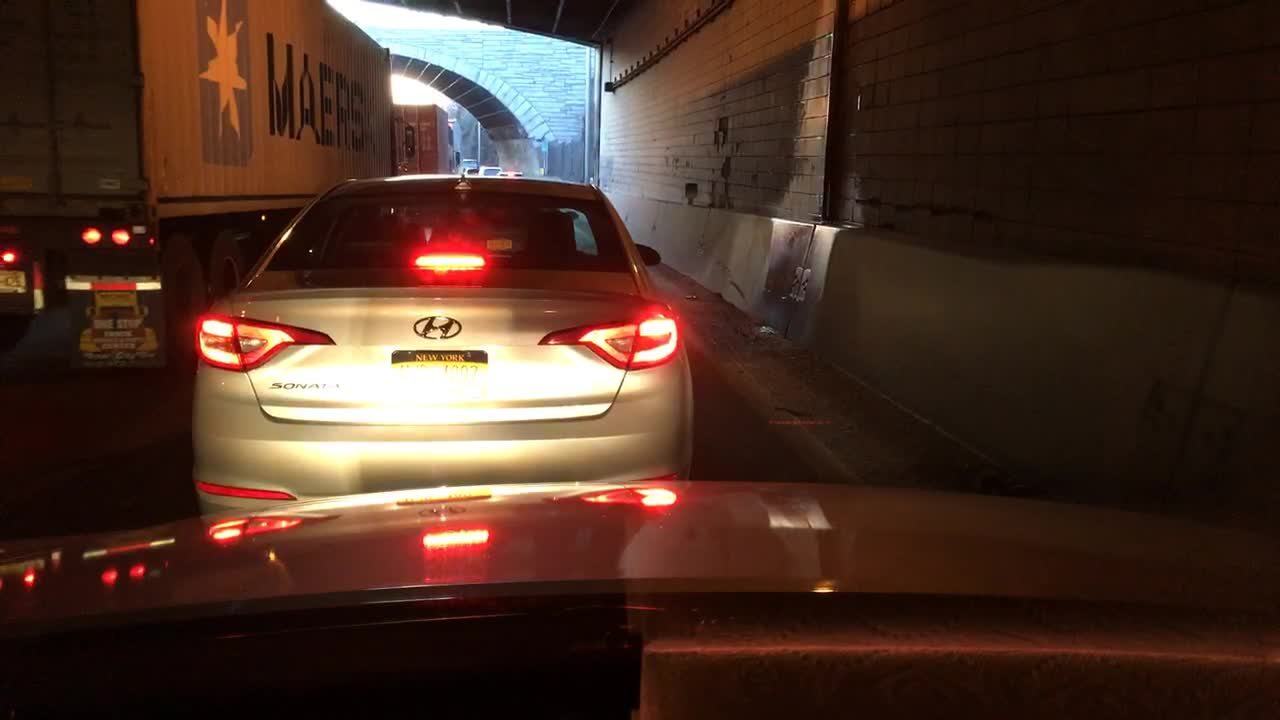car: (189, 172, 697, 522), (477, 164, 507, 179), (458, 157, 483, 175)
truck: (1, 2, 415, 390), (390, 102, 460, 174)
